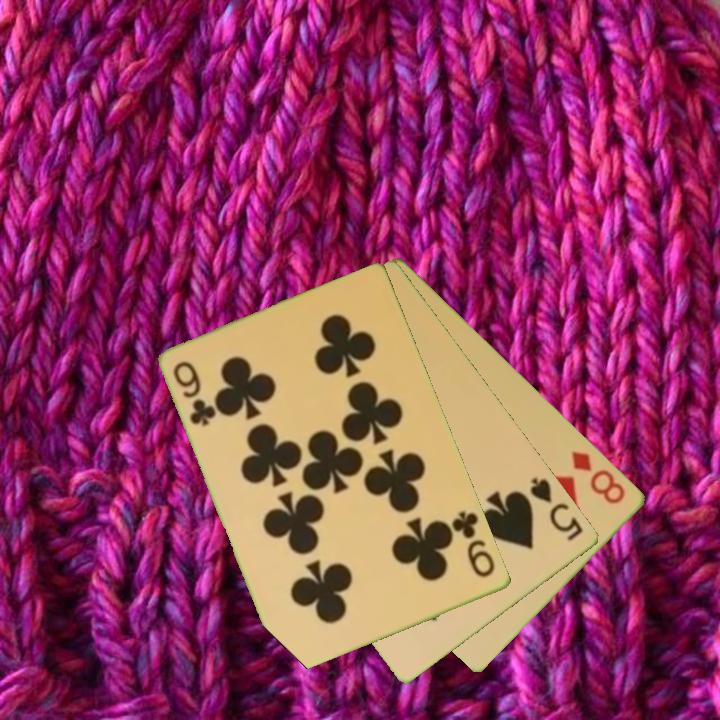5s: (526, 474, 587, 545)
8d: (568, 447, 629, 507)
9c: (448, 507, 499, 581), (170, 357, 219, 430)
